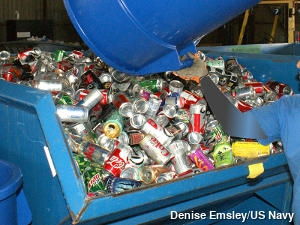metal: (139, 133, 175, 171), (183, 143, 215, 174), (56, 101, 93, 127), (80, 166, 109, 197), (186, 102, 209, 140), (209, 138, 236, 169), (77, 140, 111, 164), (103, 107, 126, 141), (206, 117, 229, 144), (32, 77, 68, 94), (227, 83, 259, 102), (110, 91, 133, 116), (266, 78, 294, 96), (164, 79, 189, 99), (51, 47, 71, 68), (128, 109, 147, 131), (243, 78, 266, 94), (130, 96, 149, 114), (2, 68, 17, 84)
plastic: (91, 135, 139, 180)
